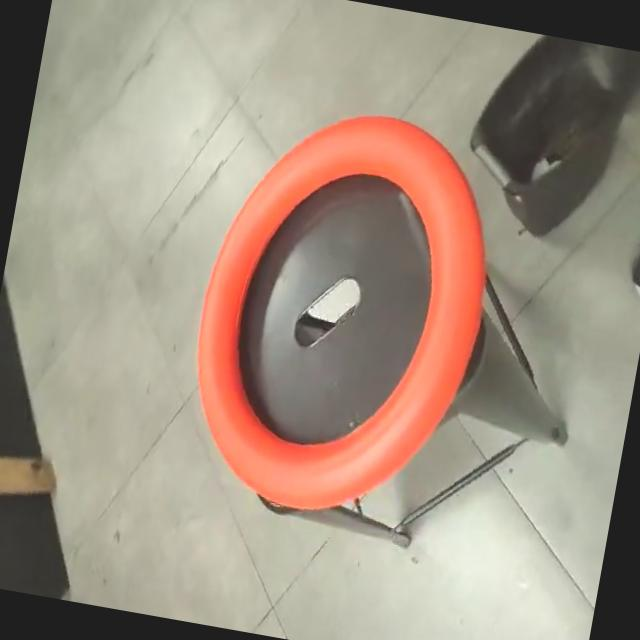note: (169, 86, 515, 534)
